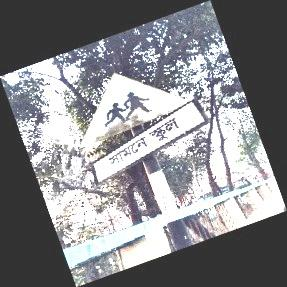School-in-front: (80, 72, 214, 187)
